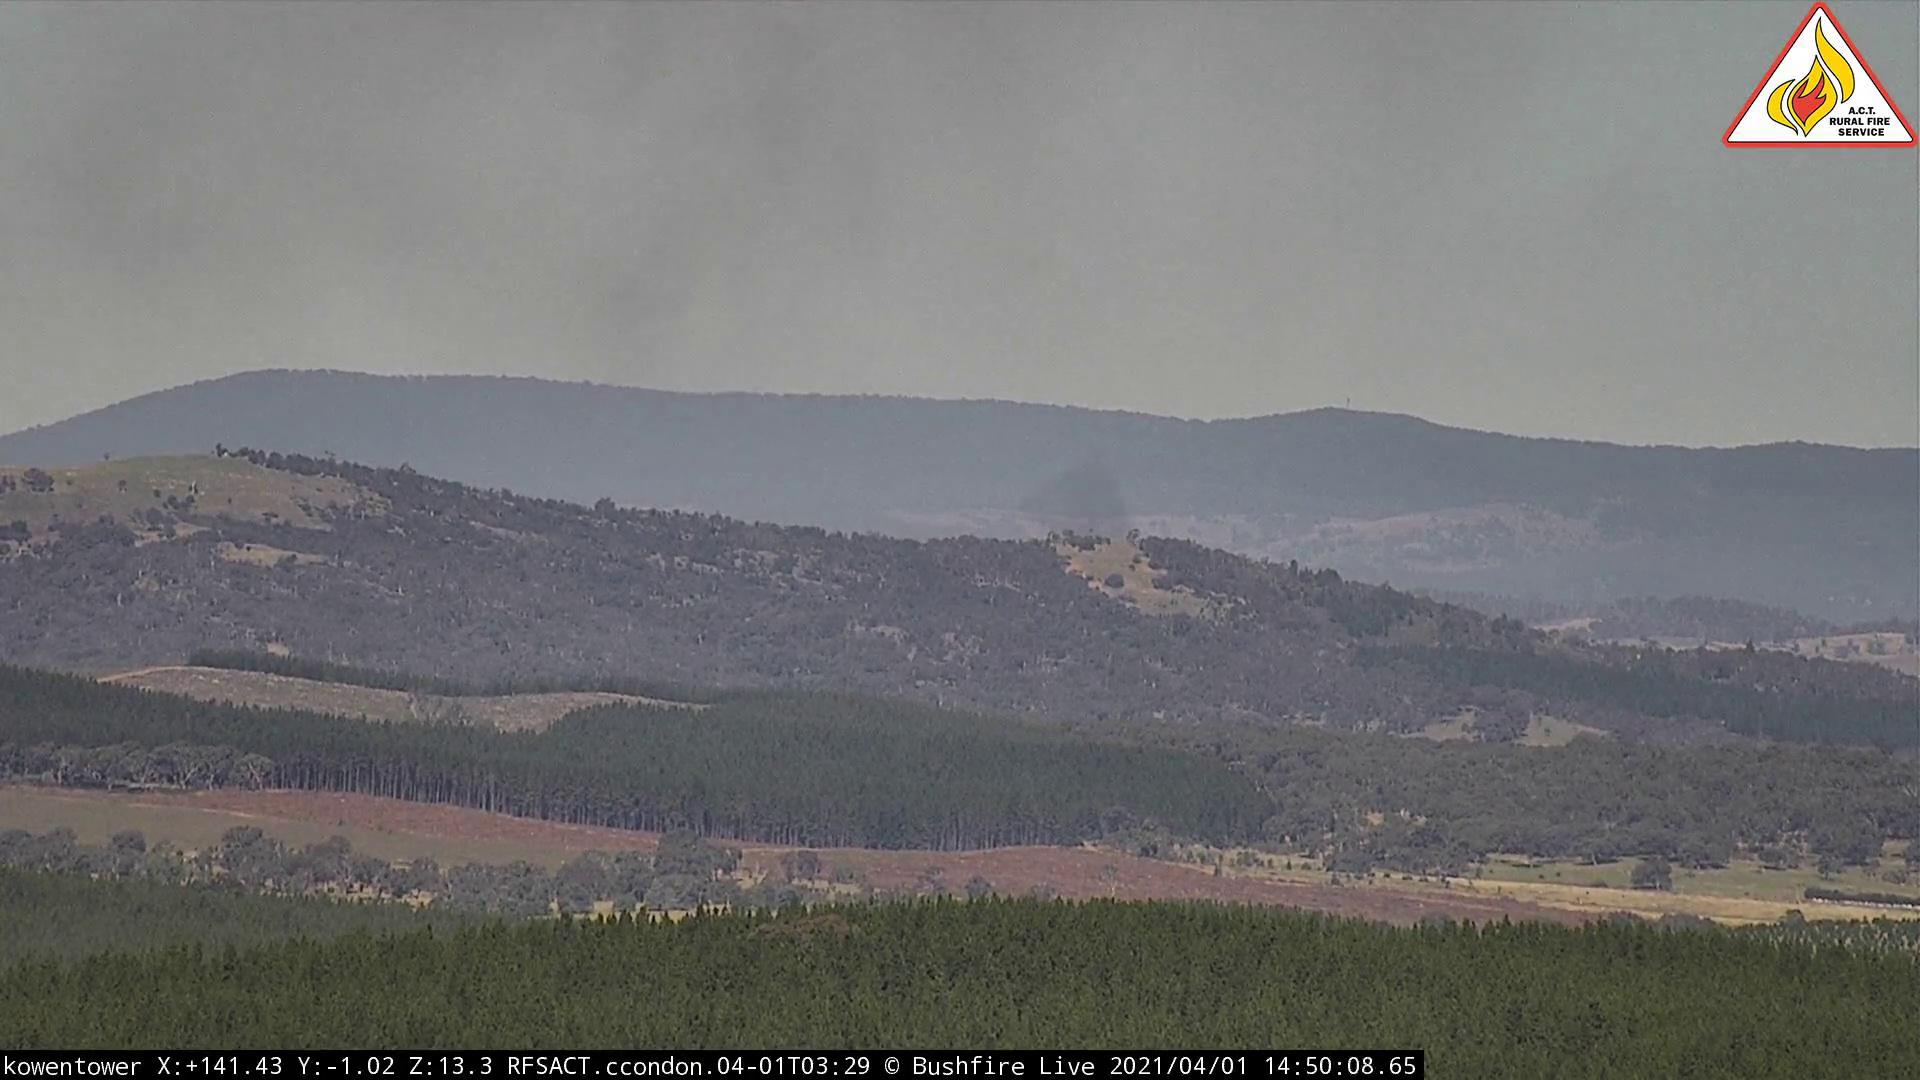Smoke: (505, 32, 916, 363)
